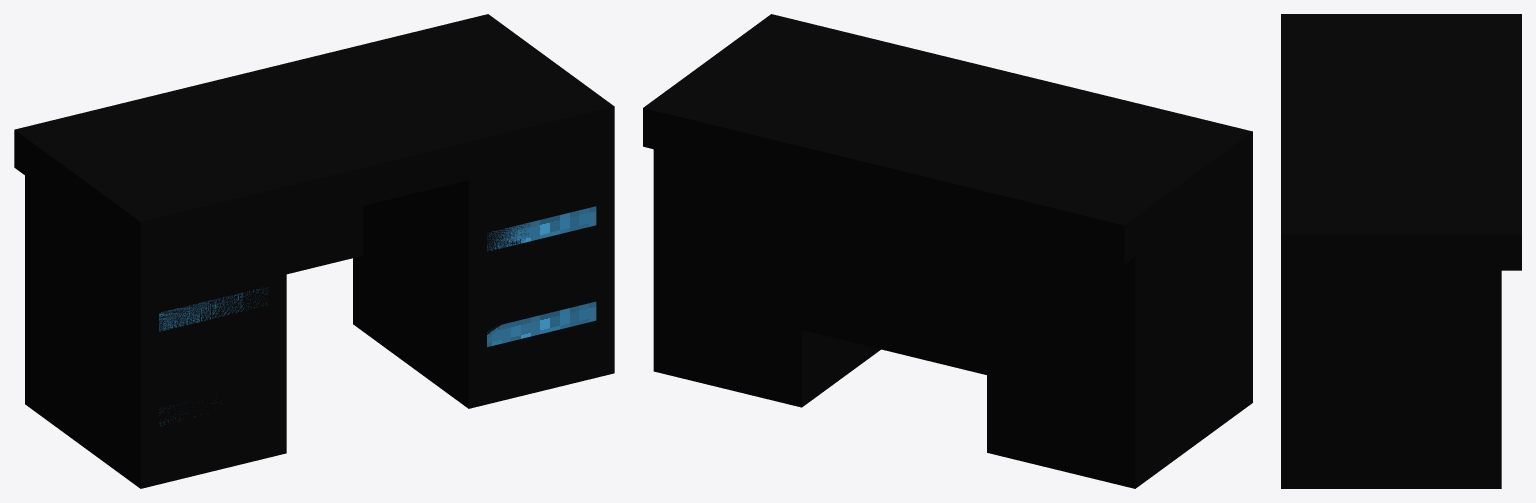
Rendered from officeDesk.glb.
The picture shows the model from 3 angles, left to right: view 1: azimuth 30°, elevation 25°; view 2: azimuth 150°, elevation 25°; view 3: azimuth 270°, elevation 25°; orthographic projection. The views are drawn at different scales.
Visible parts, largest first — view 1: officeDesk_0; view 2: officeDesk_0; view 3: officeDesk_0.
Boxes of the visible parts, x1=… form: officeDesk_0: x1=14, y1=14, x2=614, y2=488; officeDesk_0: x1=643, y1=14, x2=1252, y2=488; officeDesk_0: x1=1281, y1=14, x2=1521, y2=488.
Bounding box in the file's own units: 1.62 × 0.875 × 0.75.
1 material, 1 textured.
